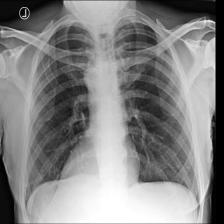normal: (19, 12, 206, 217)
